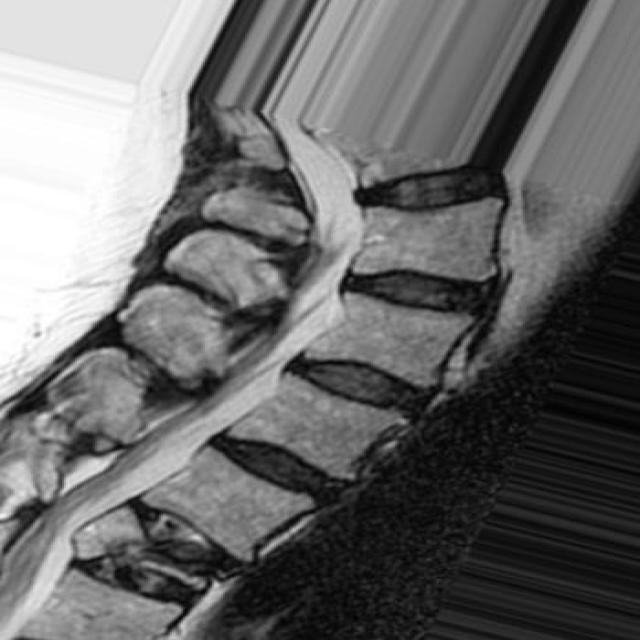Comminuted: (55, 494, 234, 606)
